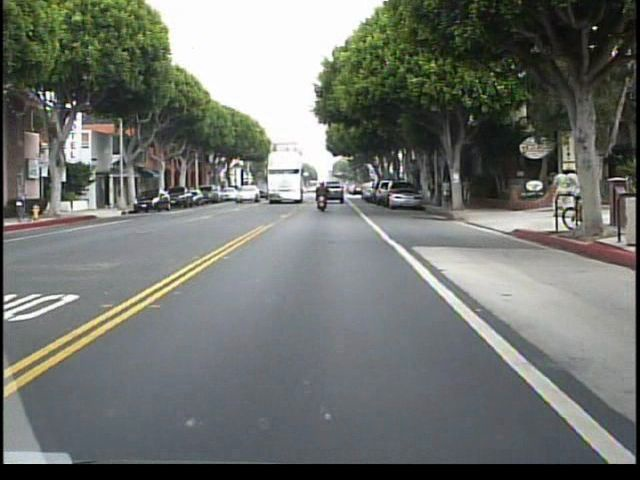person: (313, 177, 332, 221), (439, 174, 451, 207), (454, 173, 464, 206), (463, 175, 473, 206)
